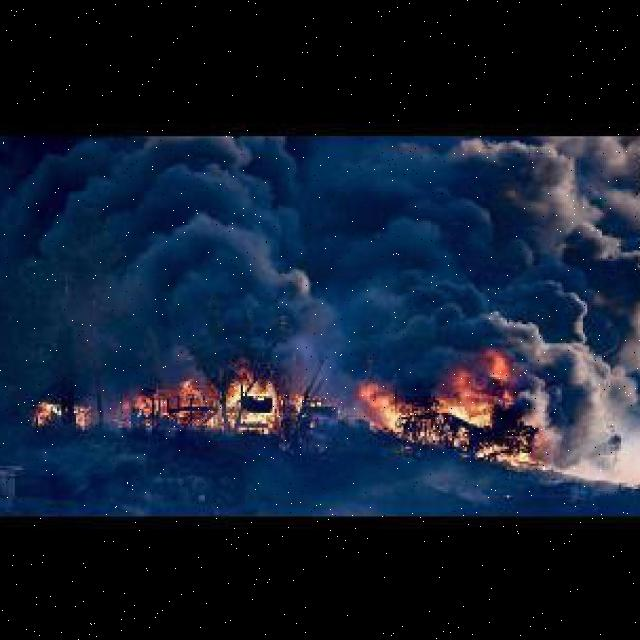fire: (355, 366, 562, 470), (122, 366, 298, 444), (27, 392, 93, 432)
smoke: (0, 136, 640, 388)
